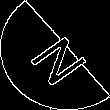N_NE: (19, 24, 91, 86)
